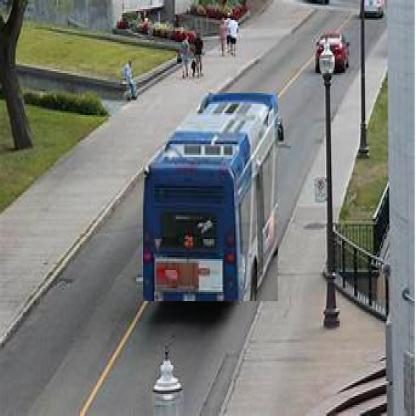bus: (144, 94, 280, 304)
